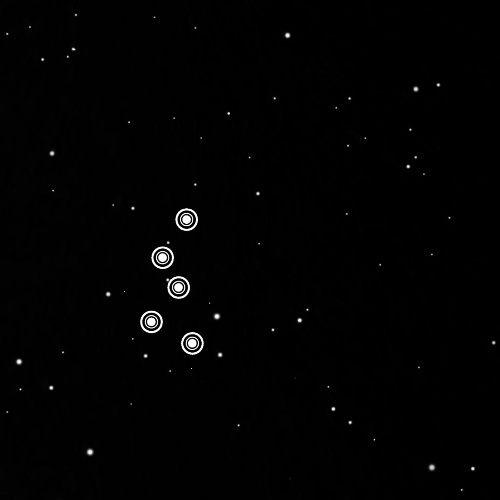cassiopeia: (120, 195, 215, 364)
